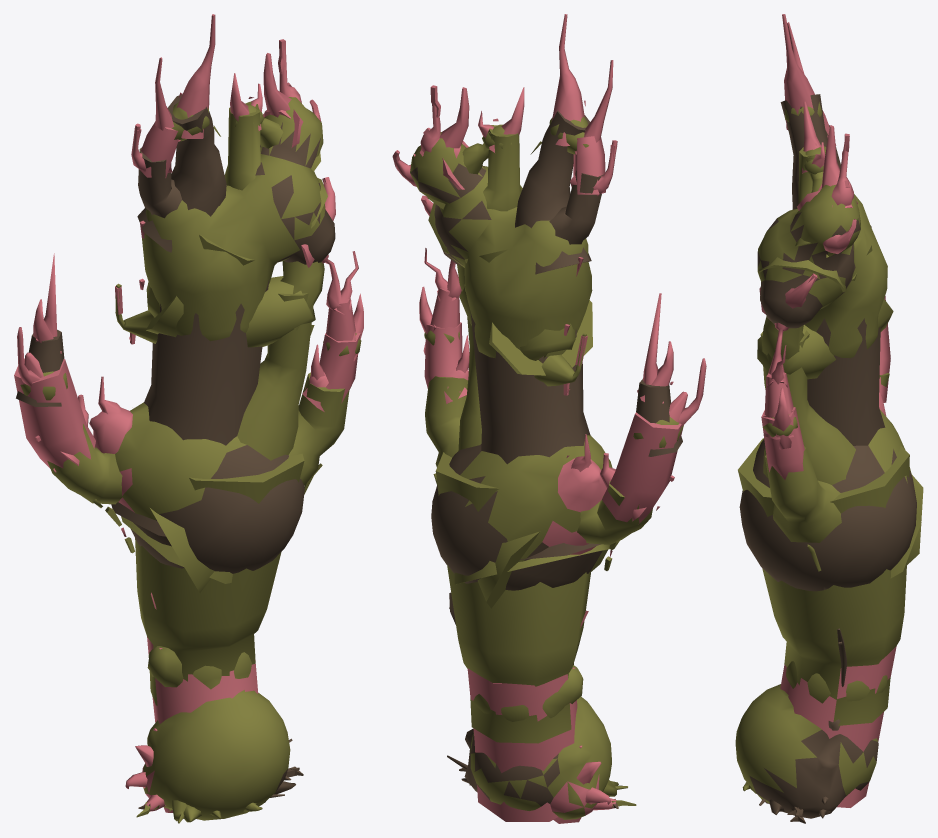
Rendered from funneltrunk.glb.
3 views of the same model, side by side, from view 1: azimuth 30°, elevation 25°; view 2: azimuth 150°, elevation 25°; view 3: azimuth 270°, elevation 25° (orthographic). The views are drawn at different scales.
Visible parts, largest first — view 1: body; view 2: body; view 3: body.
Boxes of the visible parts, <box> form: body: <box>14,14,363,823</box>; body: <box>392,14,706,823</box>; body: <box>735,14,923,823</box>.
Bounding box in the file's own units: 2.59 × 6.26 × 1.36.
